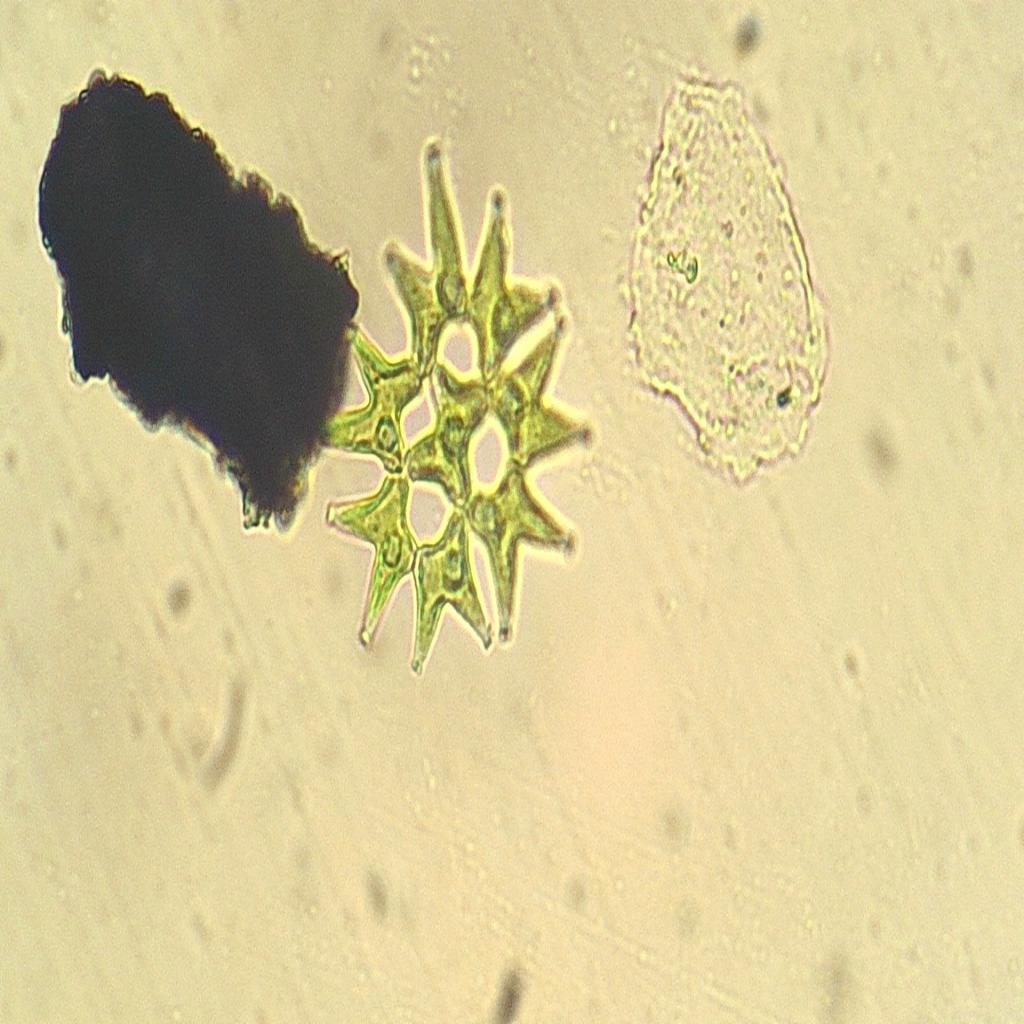Pediastrum_75T: (304, 112, 602, 692)
